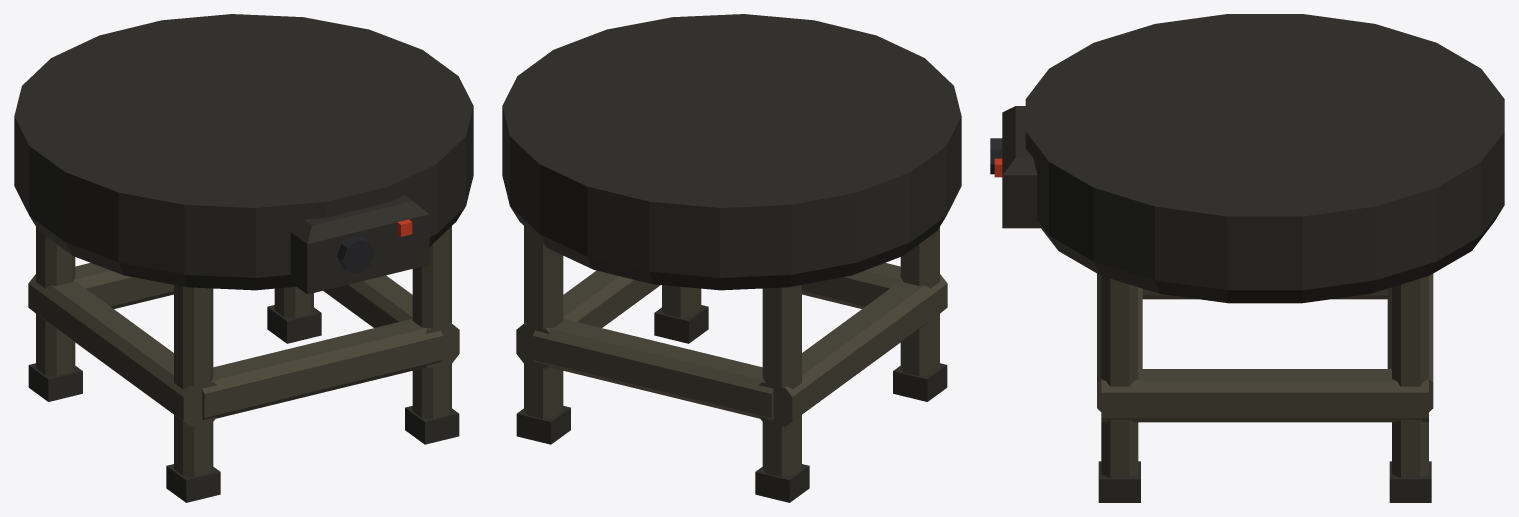
The model's file is SM_Cook_PotStand_01.fbx.
The picture shows the model from 3 angles, left to right: view 1: azimuth 30°, elevation 25°; view 2: azimuth 150°, elevation 25°; view 3: azimuth 270°, elevation 25°; orthographic projection. The views are drawn at different scales.
Parts seen in each view (by area): view 1: SM_Cook_PotStand_01; view 2: SM_Cook_PotStand_01; view 3: SM_Cook_PotStand_01.
Boxes of the visible parts, box(x1,y1,x2,y2) form: SM_Cook_PotStand_01: box(14, 14, 473, 502); SM_Cook_PotStand_01: box(502, 14, 961, 502); SM_Cook_PotStand_01: box(990, 14, 1504, 502).
Bounding box in the file's own units: 0.5472 × 0.4 × 0.5876.
1 material, 1 textured.
